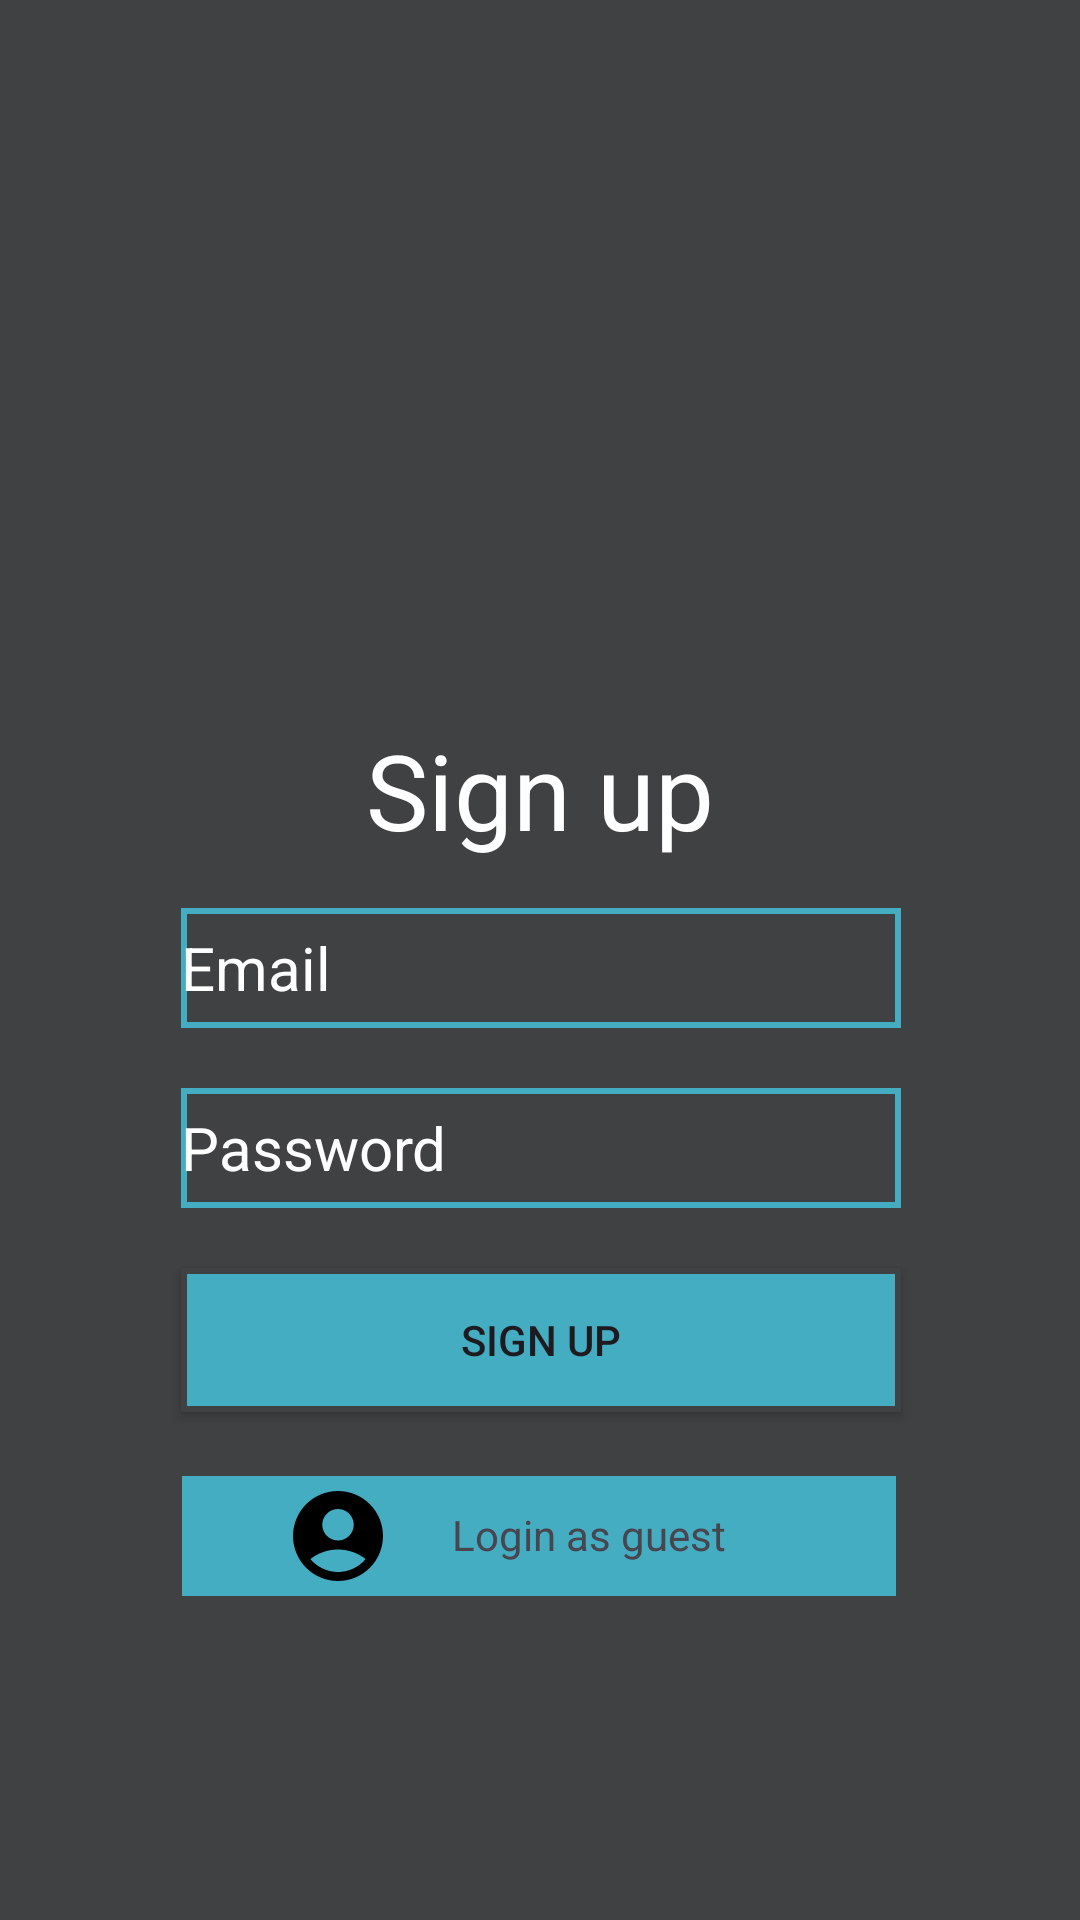

Point at icon controls on the screen. Image size 1080 × 1920, points as point (x, y).
guestlogin: point (338, 1536)
